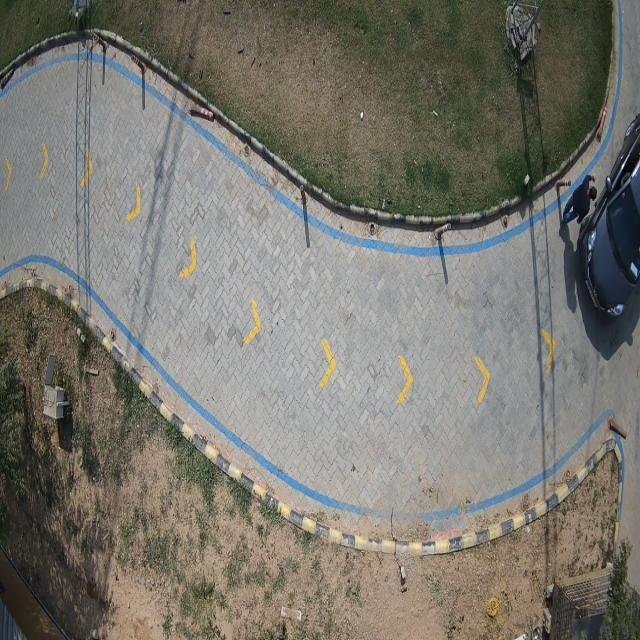car: (578, 116, 640, 317)
